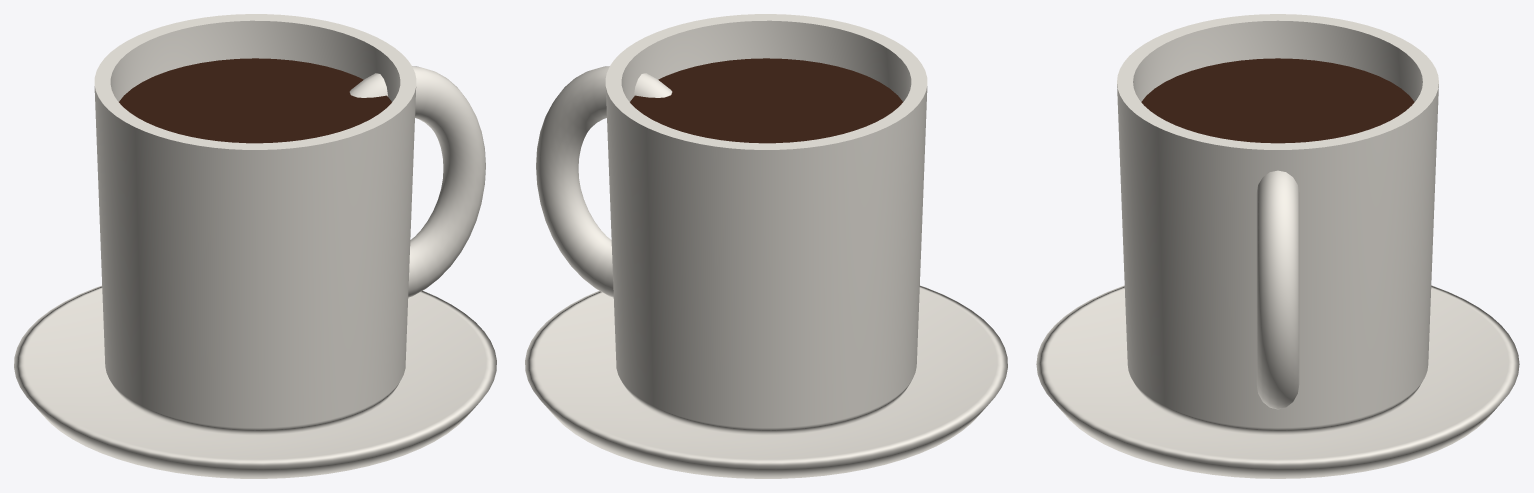
The model's file is mug.glb.
3 views of the same model, side by side, from view 1: azimuth 30°, elevation 25°; view 2: azimuth 150°, elevation 25°; view 3: azimuth 270°, elevation 25° (orthographic).
Visible parts, largest first — view 1: Mug, Saucer, Coffee, Handle; view 2: Mug, Saucer, Coffee, Handle; view 3: Mug, Saucer, Coffee, Handle.
Boxes of the visible parts, x1,y1,x2,y2 form: Mug: (94,14,416,435); Saucer: (14,285,496,478); Coffee: (119,58,391,143); Handle: (349,66,485,297); Mug: (605,14,927,435); Saucer: (525,285,1007,478); Coffee: (630,58,902,143); Handle: (536,66,672,297); Mug: (1117,14,1438,435); Saucer: (1036,285,1519,478); Coffee: (1141,58,1414,143); Handle: (1256,170,1299,409).
Size of the model in its own units: 0.94 by 0.62 by 0.9.
